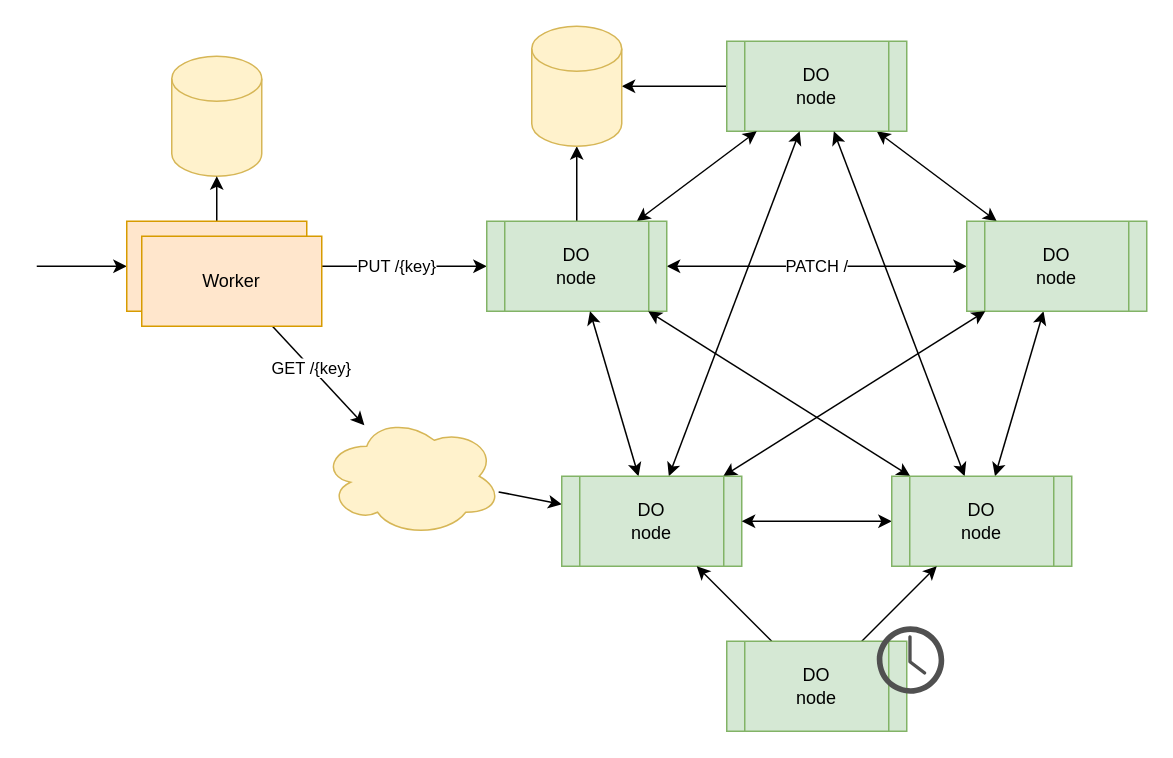
Some shapes in this 1173 by 758 pixel diagram are drawn without their labels. Each missing label, with the centre of its shape:
Cache: the point at 411,475
KV config: the point at 216,115
KV node dumps: the point at 576,85
